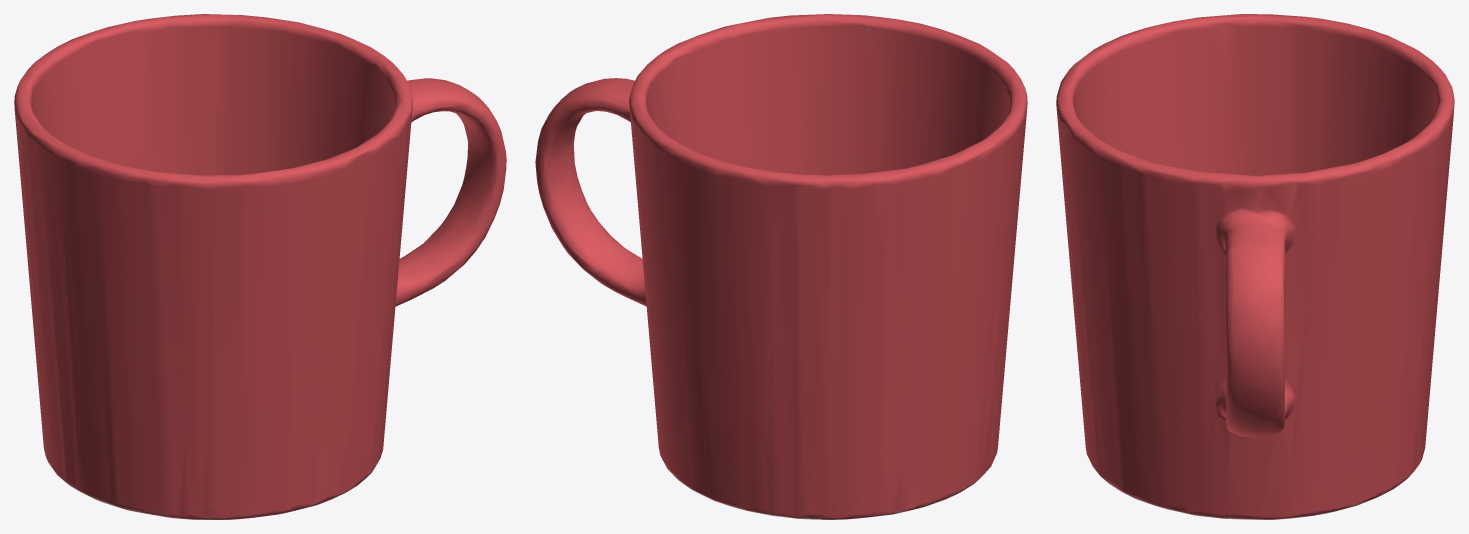
File: KEJSERLIG tasse.glb
3 views of the same model, side by side, from view 1: azimuth 30°, elevation 25°; view 2: azimuth 150°, elevation 25°; view 3: azimuth 270°, elevation 25° (orthographic).
Parts seen in each view (by area): view 1: ProcessedMeshNode; view 2: ProcessedMeshNode; view 3: ProcessedMeshNode.
Part boxes in pixels (x1,y1,x2,y2): ProcessedMeshNode: [14, 14, 506, 519]; ProcessedMeshNode: [535, 14, 1027, 519]; ProcessedMeshNode: [1056, 14, 1454, 519].
Size of the model in its own units: 0.1193 by 0.0885 by 0.0898.
1 material, 1 textured.
